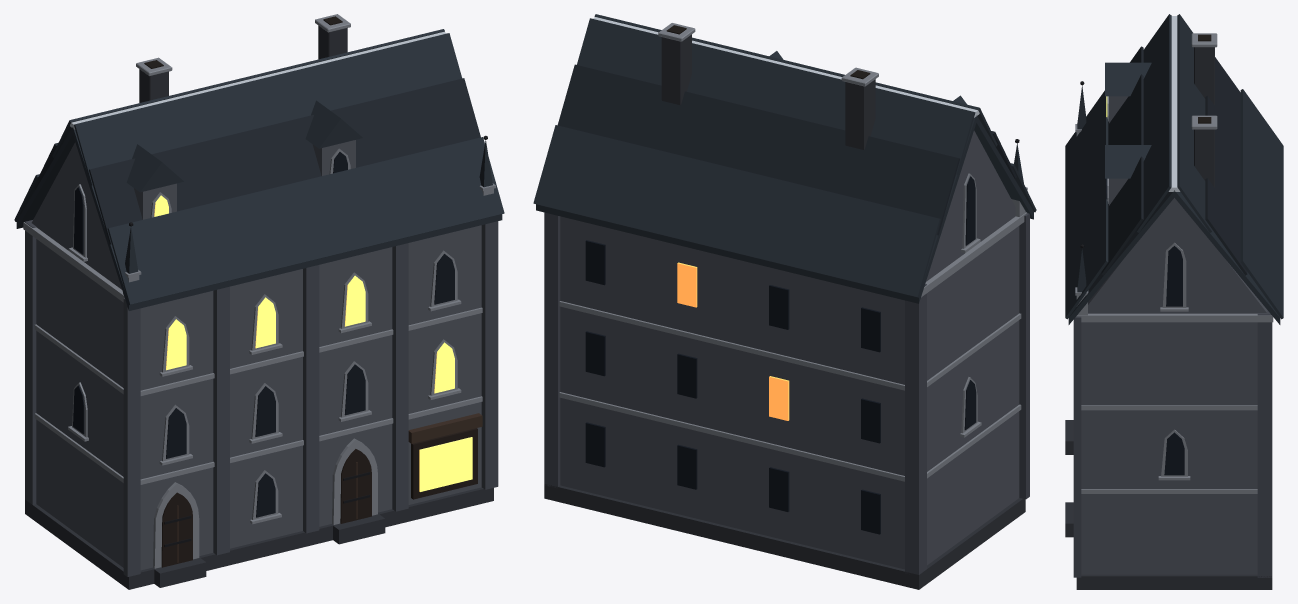
The model's file is gothic_terrace_a.glb.
The picture shows the model from 3 angles, left to right: view 1: azimuth 30°, elevation 25°; view 2: azimuth 150°, elevation 25°; view 3: azimuth 270°, elevation 25°; orthographic projection. The views are drawn at different scales.
Visible parts, largest first — view 1: gothic_terrace_a; view 2: gothic_terrace_a; view 3: gothic_terrace_a.
Boxes of the visible parts, <box> form: gothic_terrace_a: <box>14,14,504,589</box>; gothic_terrace_a: <box>533,14,1036,589</box>; gothic_terrace_a: <box>1065,14,1283,589</box>.
Size of the model in its own units: 12.14 by 14.05 by 6.51.
